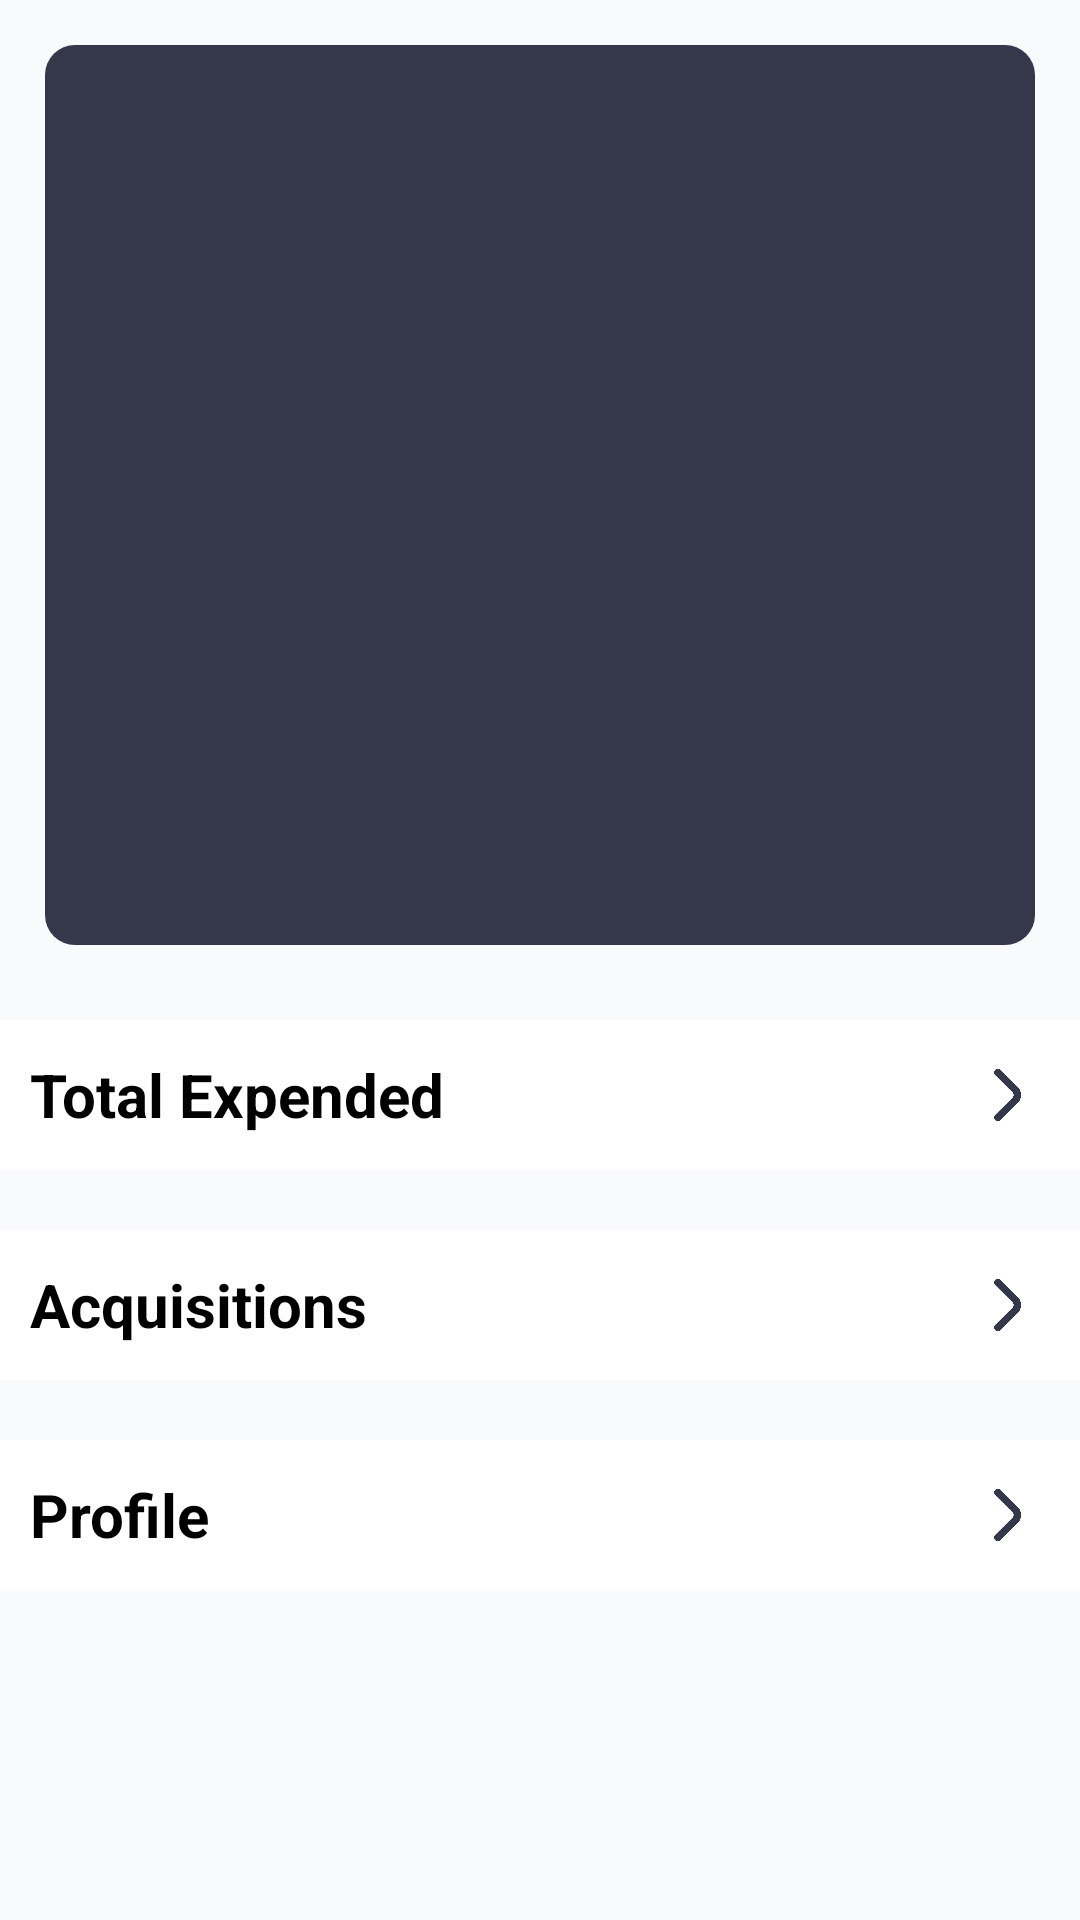

Where icons sit on this 1080 × 1920 app screen, as {"x1": x1, "y1": y1, "x2": x2, "y2": y2}:
arrow: {"x1": 994, "y1": 1069, "x2": 1021, "y2": 1121}, {"x1": 994, "y1": 1279, "x2": 1021, "y2": 1331}, {"x1": 994, "y1": 1489, "x2": 1021, "y2": 1541}
